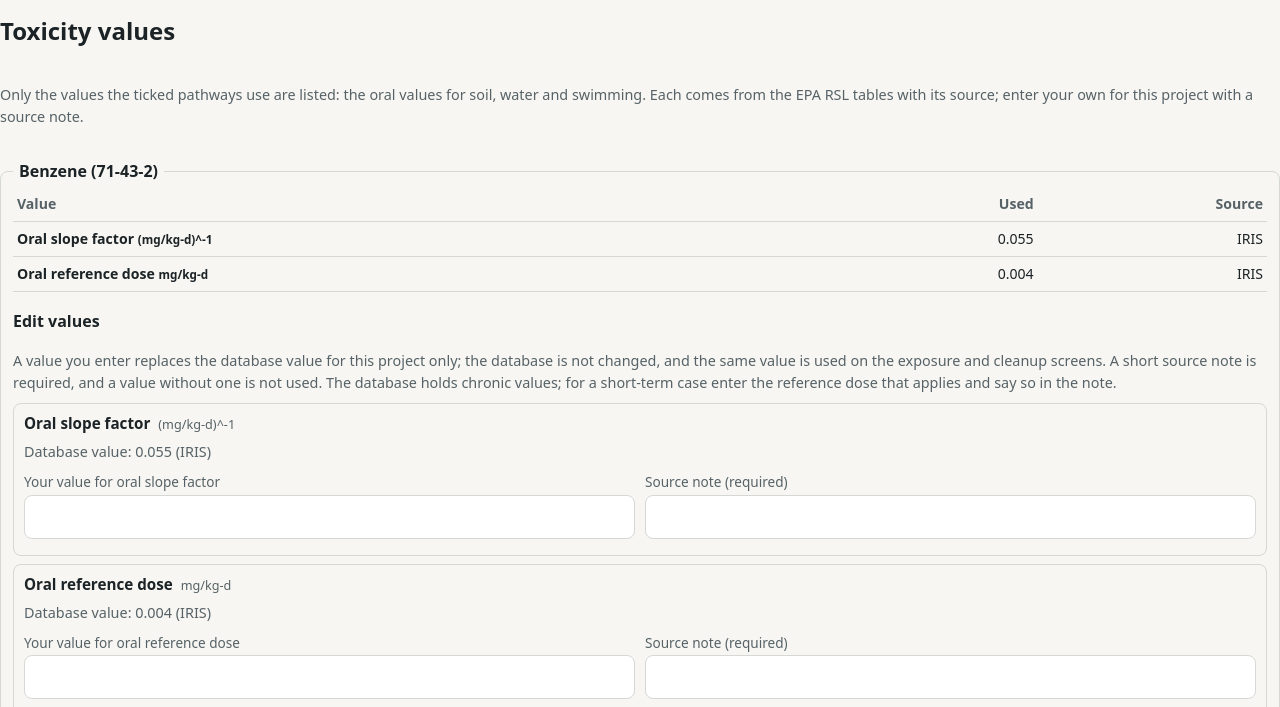
Test: ToxicityStep, 4c › keeps a value typed for a needed field with its note
The image size is (1280, 707).
Expected: the table named "toxicity values of benzene" is shown, x1=13 y1=188 x2=1267 y2=292
Type "0.5" into the field labelled "Your value for oral slope factor".
click(330, 516); type("0.5")  # box x1=24 y1=494 x2=635 y2=538
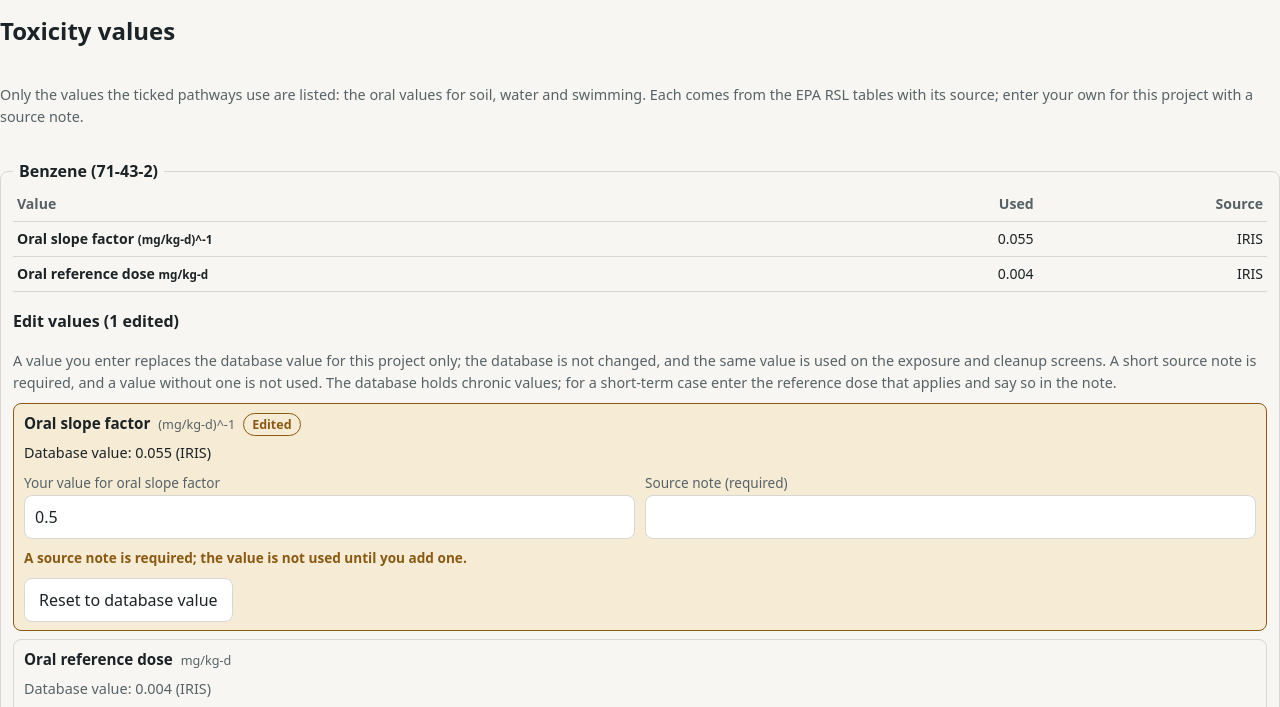
Type "State value" into the field labelled "Source note (required)".
click(950, 517); type("State value")  # box x1=645 y1=495 x2=1256 y2=539
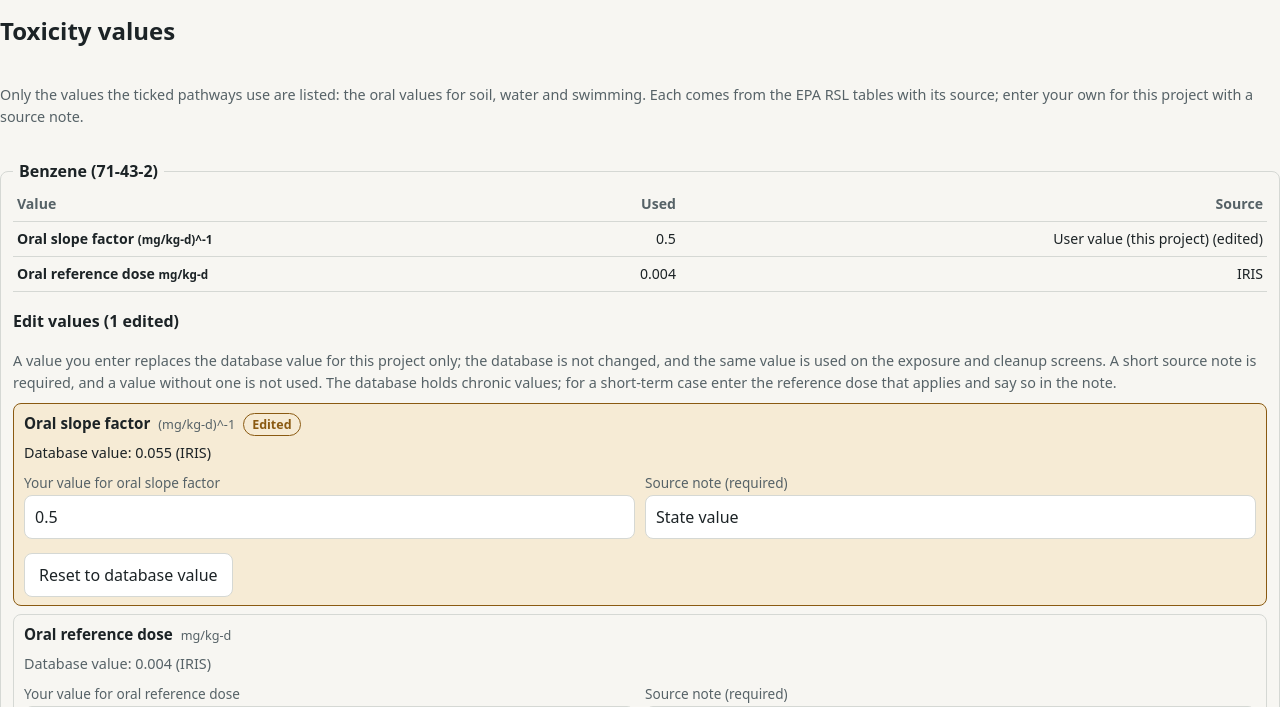
Result: the text "User value (this project) (edited)" is shown at x1=680 y1=222 x2=1267 y2=257
